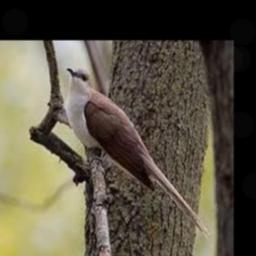Cuckoo: (65, 67, 211, 238)
